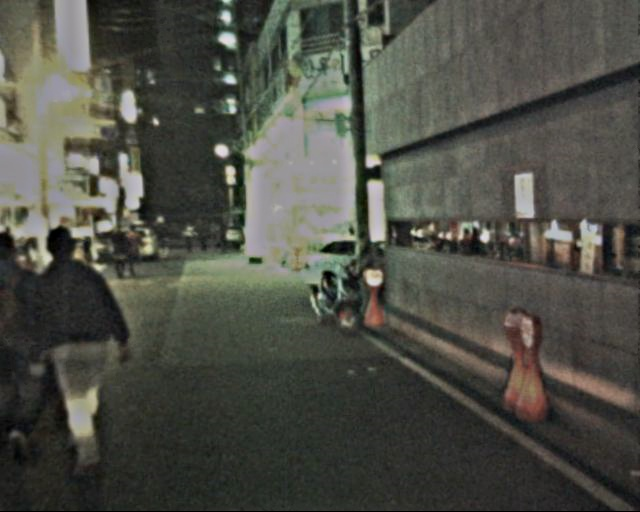person: (43, 217, 138, 472), (148, 214, 226, 258), (125, 222, 151, 281), (109, 219, 133, 279)
